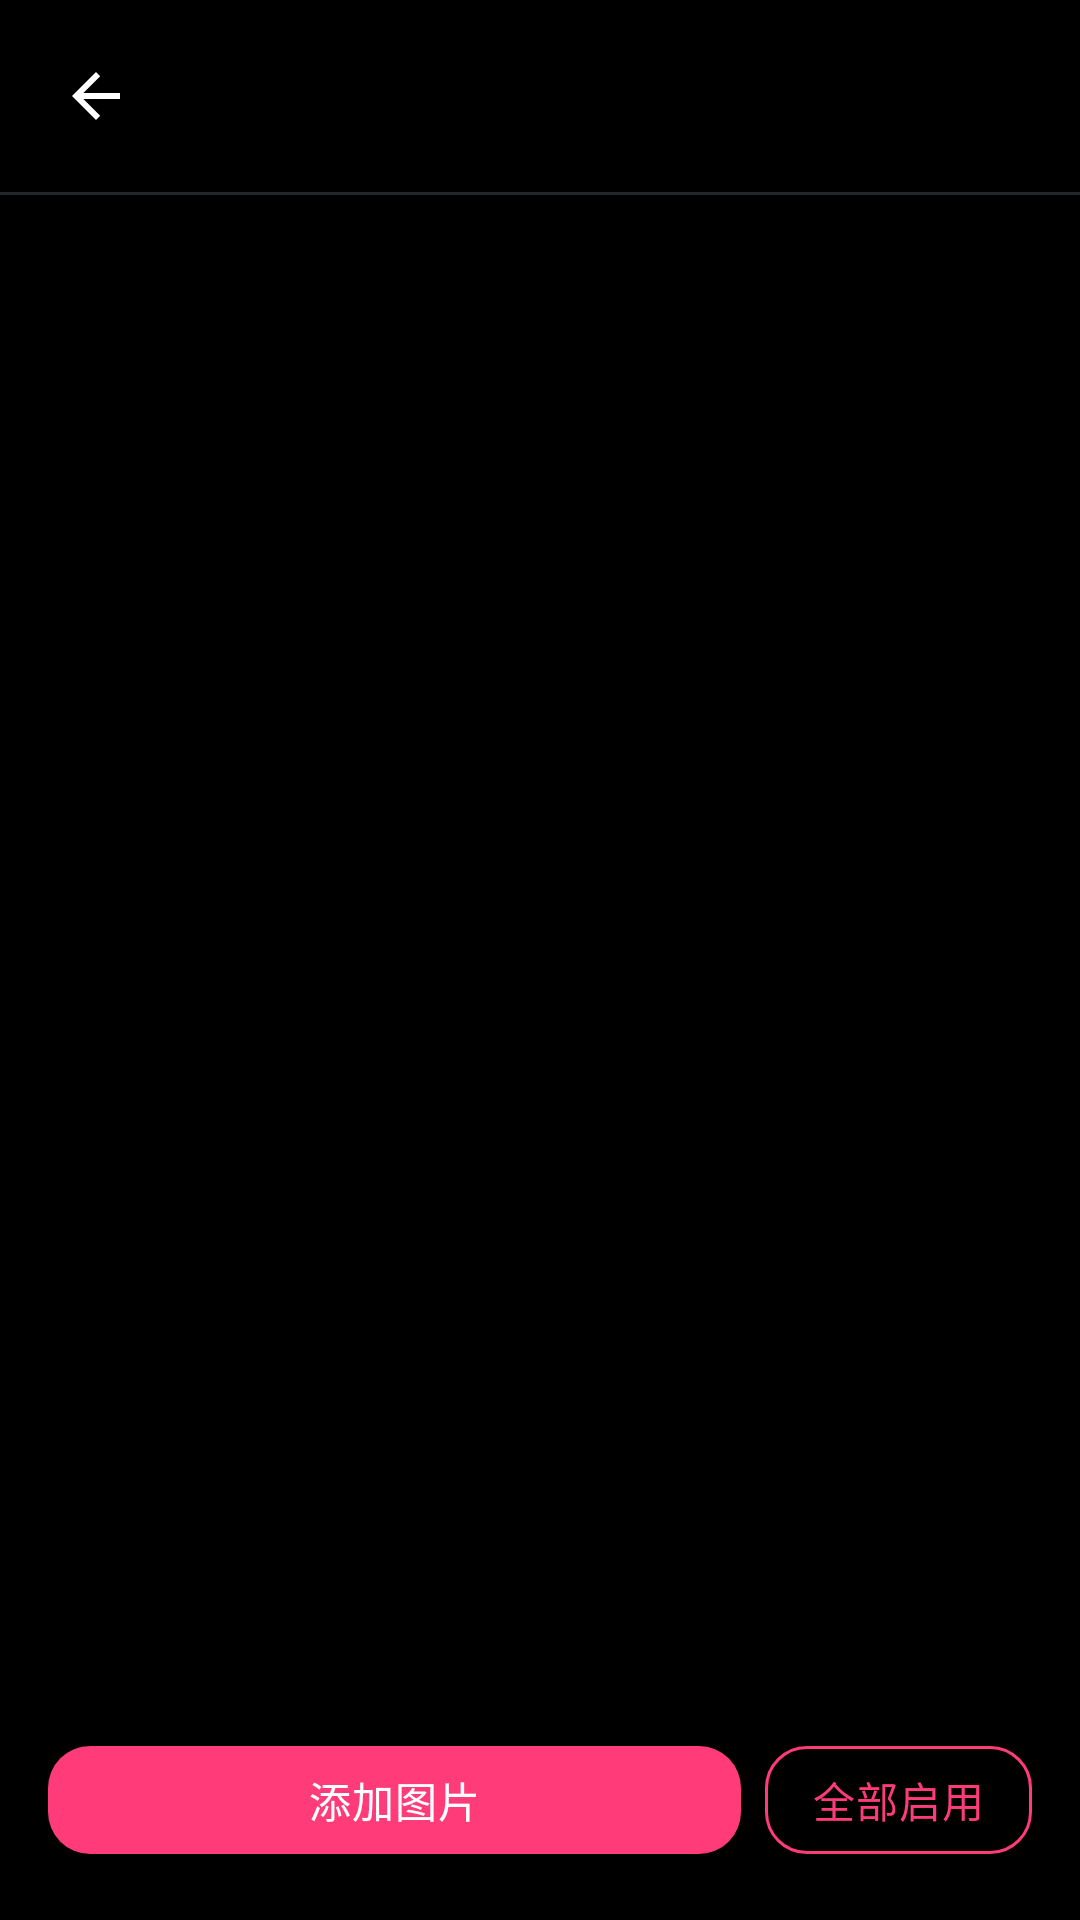

Locate icon controls on the screen. Image size 1080×1920, boxes as (x1, y1, x2, y2).
返回: (72, 72, 120, 120)
